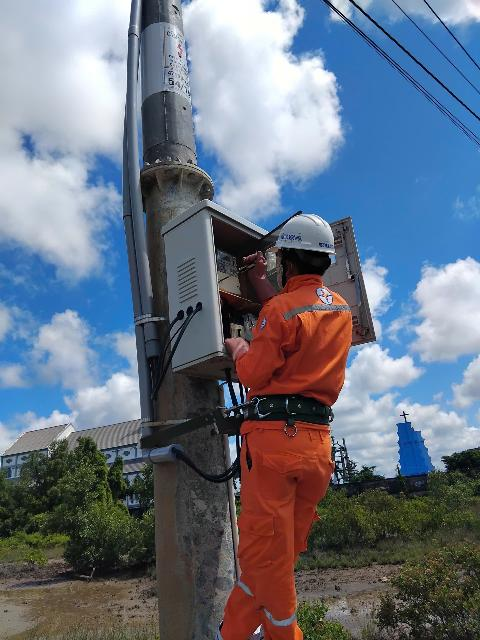gloves: (238, 250, 280, 299), (218, 330, 251, 367)
harness: (204, 374, 335, 420)
helmet: (269, 211, 352, 262)
